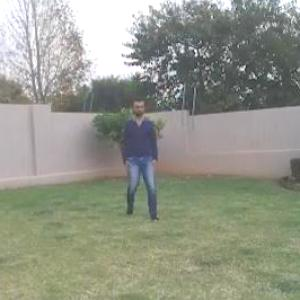follow: (122, 94, 159, 221)
